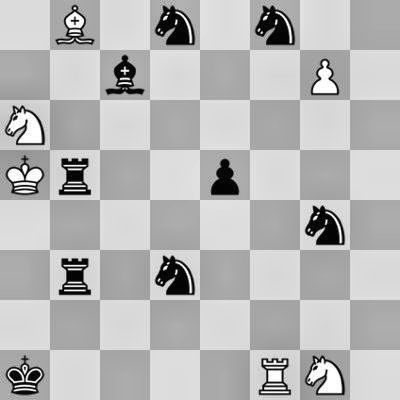black-bishop: (100, 50, 150, 100)
black-king: (0, 350, 50, 400)
black-knight: (150, 0, 200, 50), (250, 0, 300, 50), (300, 200, 350, 250), (150, 250, 200, 300)
black-pawn: (200, 150, 250, 200)
black-rook: (50, 150, 100, 200), (50, 250, 100, 300)
white-bishop: (50, 0, 100, 50)
white-king: (0, 150, 50, 200)
white-knight: (0, 100, 50, 150), (300, 350, 350, 400)
white-pawn: (300, 50, 350, 100)
white-rook: (250, 350, 300, 400)
